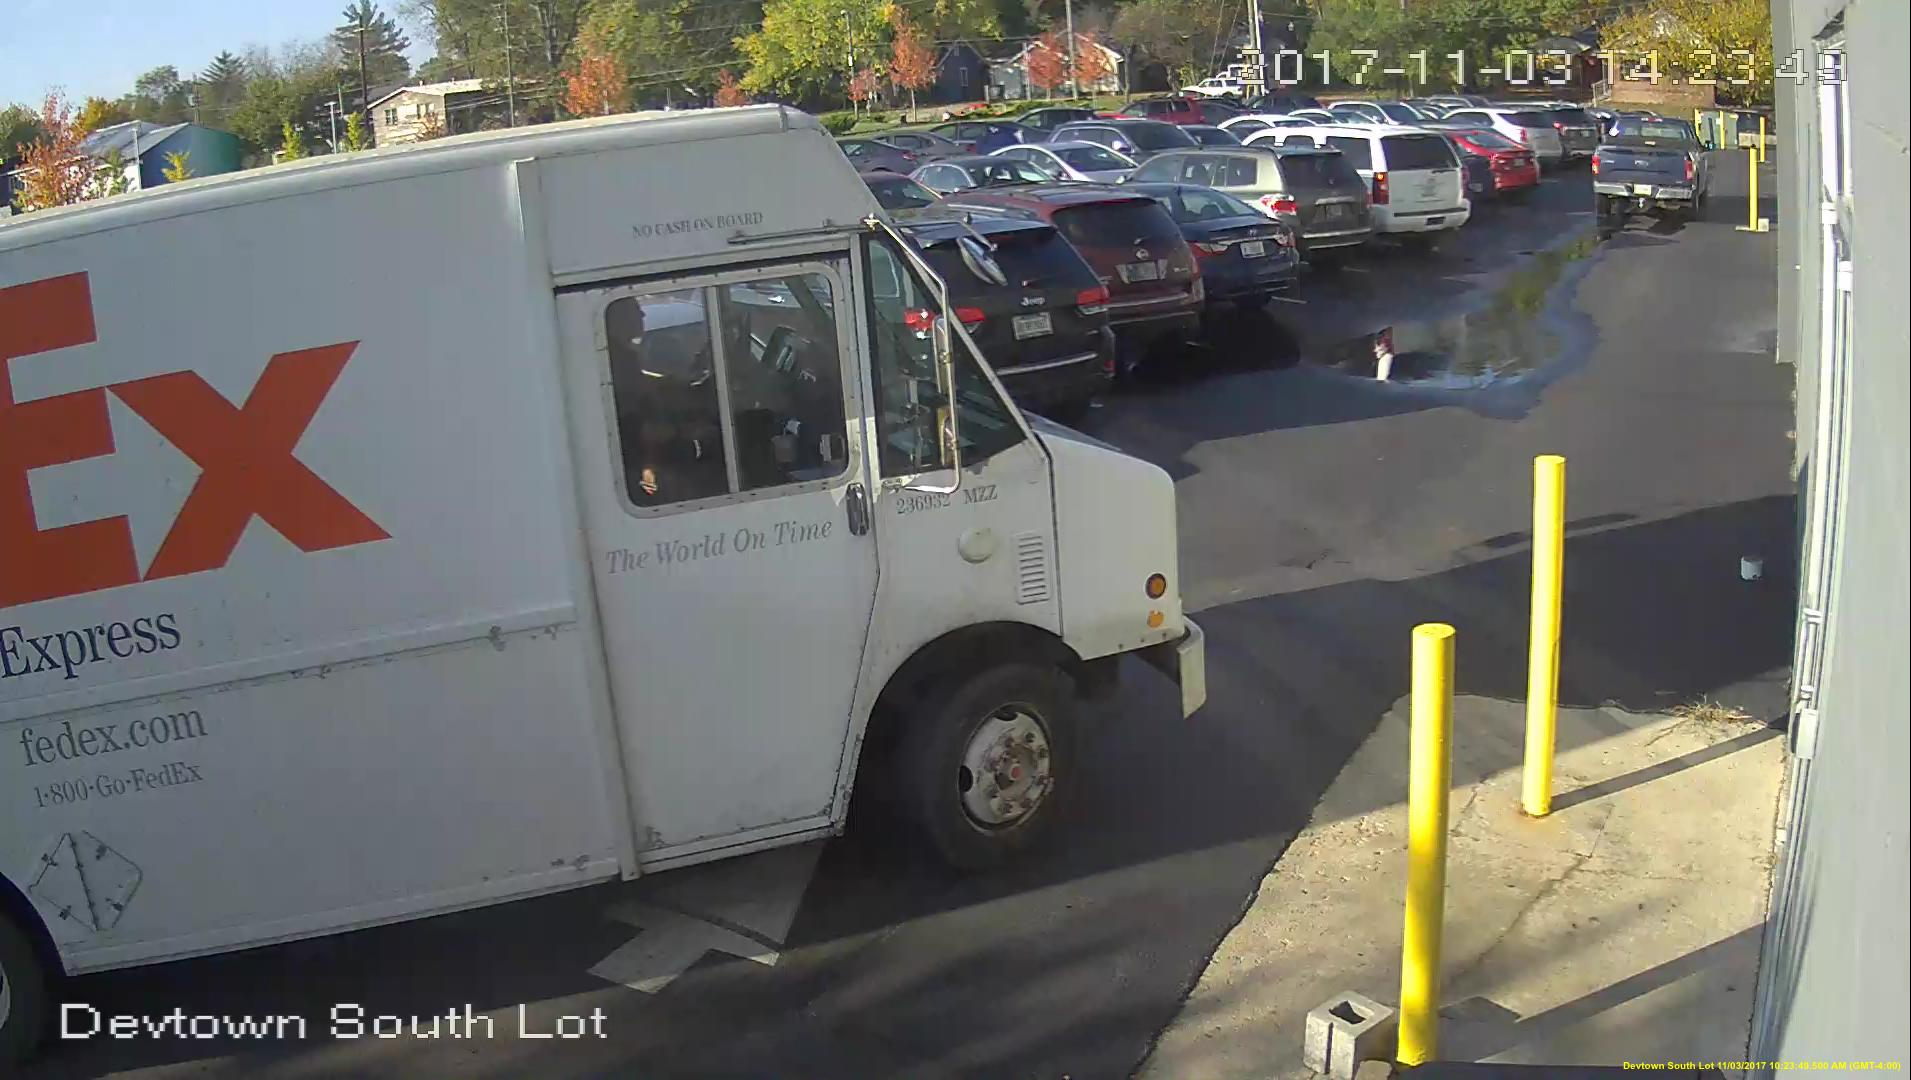fedex_truck: (5, 93, 1211, 982)
